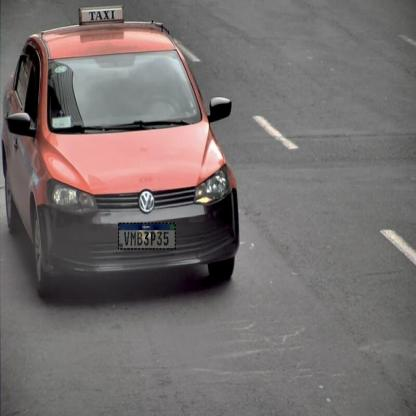PlacaM: (118, 222, 176, 250)
